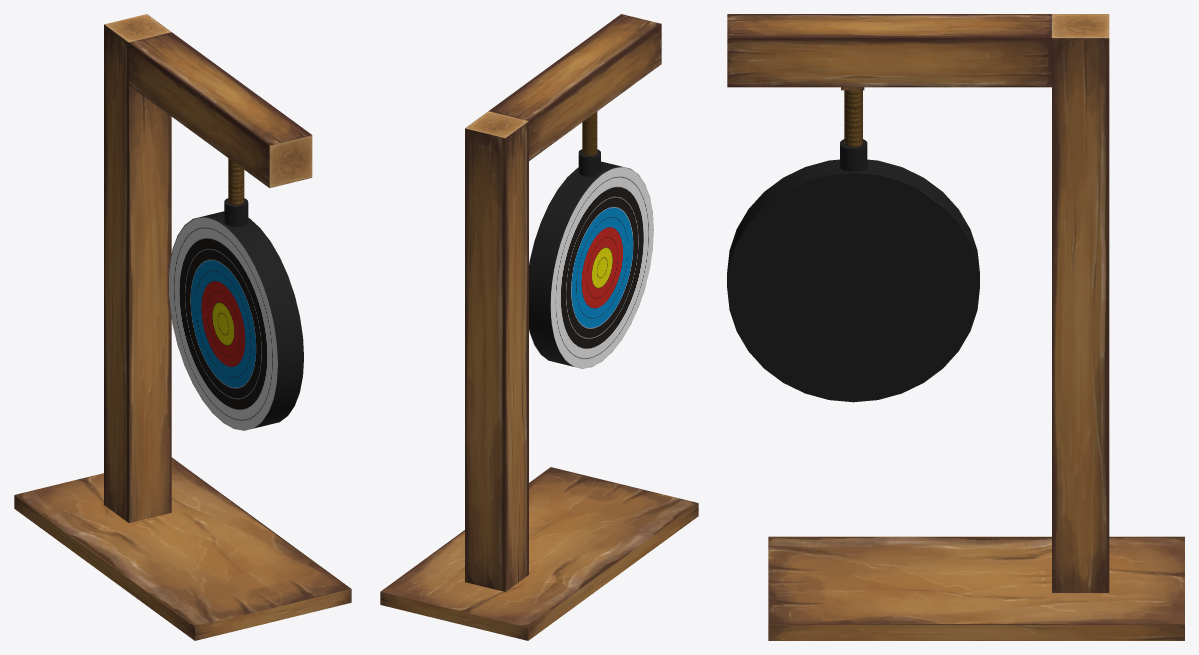
File: target.glb
3 renders of one model, left to right at view 1: azimuth 30°, elevation 25°; view 2: azimuth 150°, elevation 25°; view 3: azimuth 270°, elevation 25°, orthographic. The views are drawn at different scales.
Parts seen in each view (by area): view 1: Cube, Cylinder; view 2: Cube, Cylinder; view 3: Cube, Cylinder.
Boxes of the visible parts, left/top/right/bottom form: Cube: left=14, top=14, right=351, bottom=640; Cylinder: left=168, top=158, right=303, bottom=430; Cube: left=380, top=14, right=698, bottom=640; Cylinder: left=529, top=111, right=653, bottom=368; Cube: left=727, top=14, right=1184, bottom=640; Cylinder: left=727, top=90, right=979, bottom=402.
Size of the model in its own units: 1.84 by 5.56 by 4.04.
Materials: 1 (1 with a texture image).
